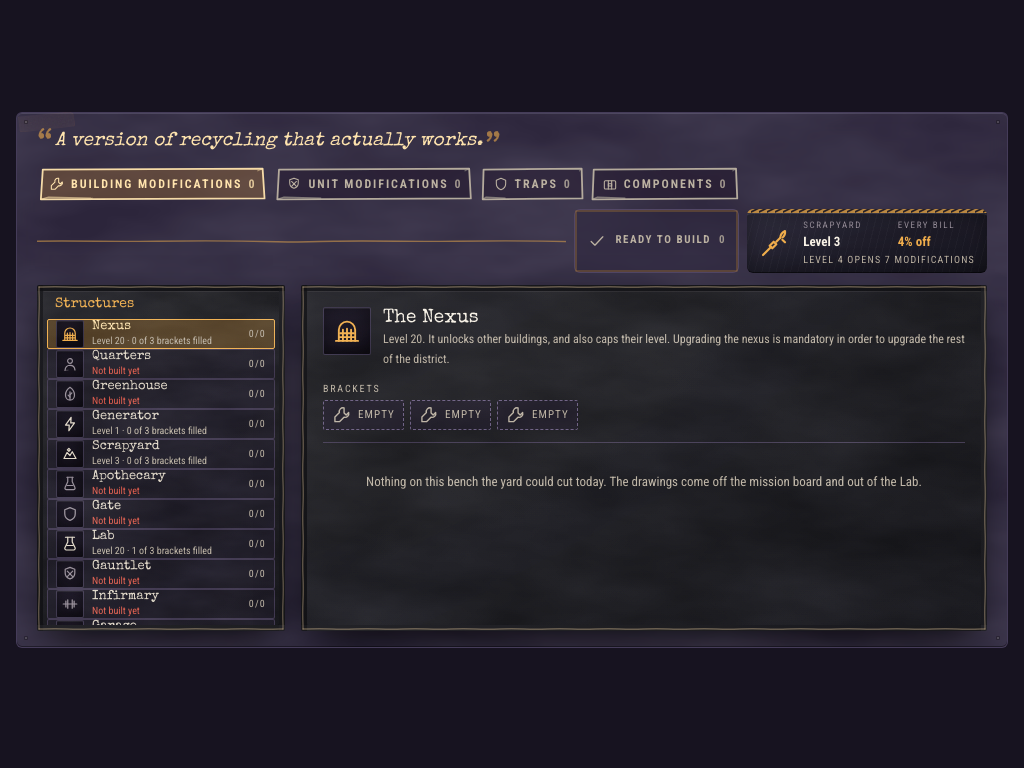
Test case: the head of the page › runs the rule up to the yard plate on the tab with no filter
The width and height of the screenshot is (1024, 768).
Step 1. Click the tab with test id "scrapyard-view-components" → (665, 184), box [590,167,740,201]
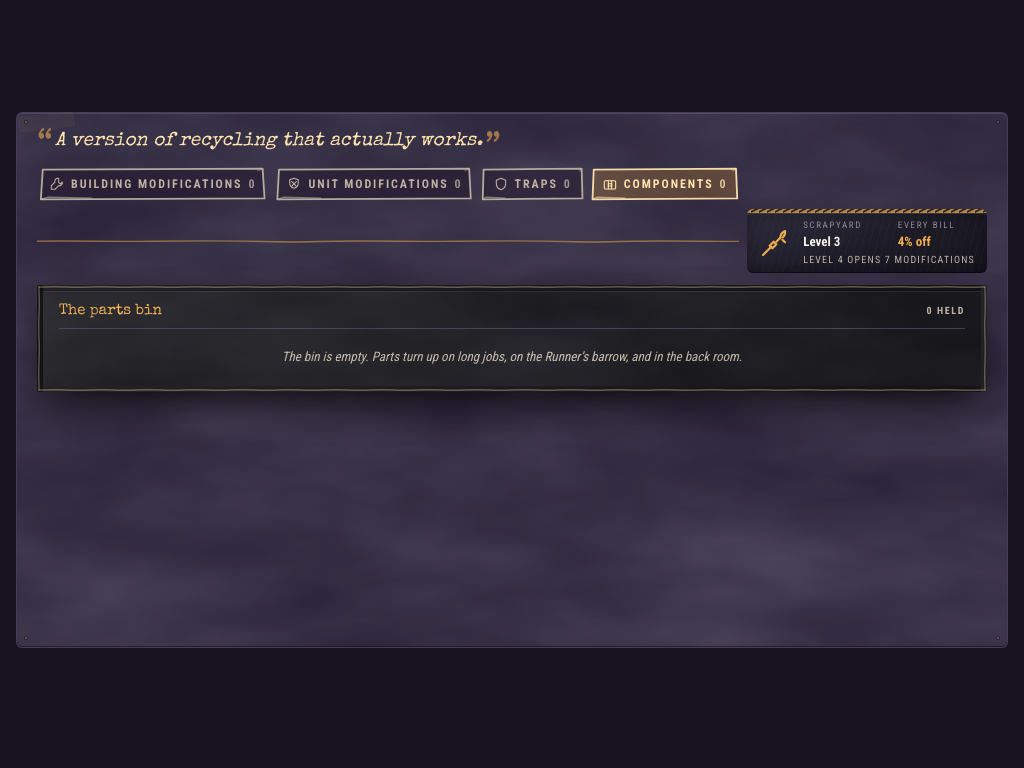
Expected: the button with test id "scrapyard-ready-only" is gone
